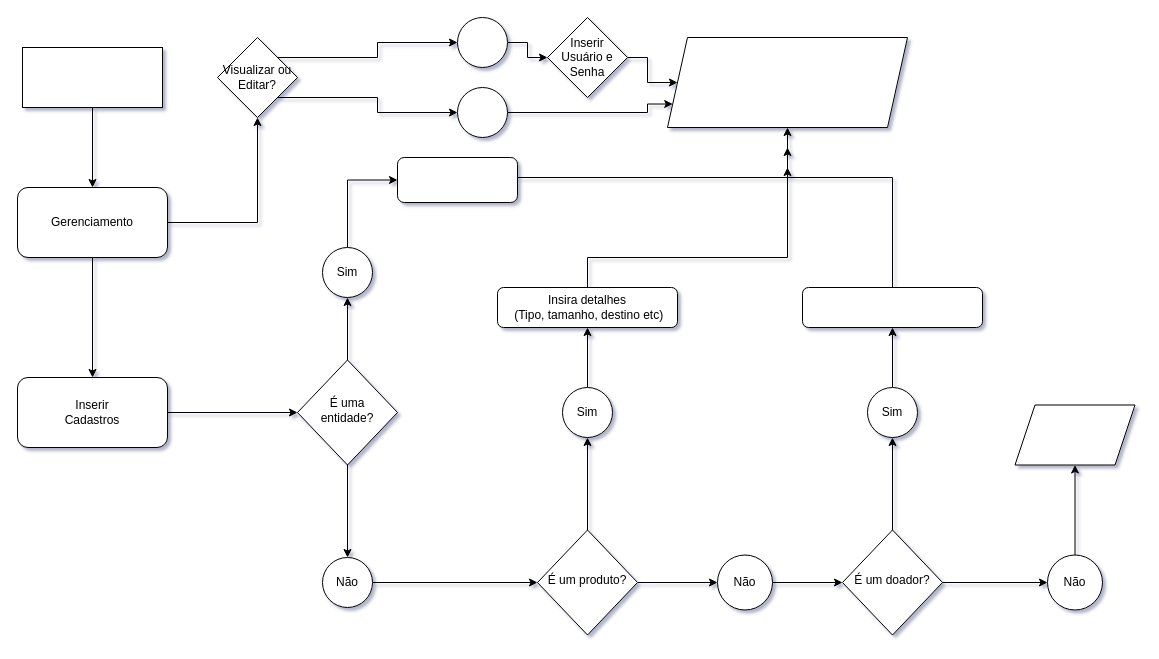
Some shapes in this 1159 by 659 pixel diagram are drawn without their labels. The shapes that lost their labels are listed below. From the top down, each one's box as (x1, y1, x2, y2) in pixels, then its label:
(456, 16, 508, 68): Editar
(22, 46, 162, 108): PRINCIPAL
(666, 36, 908, 128): Banco de Dados
(456, 86, 508, 138): Visualizar
(396, 156, 518, 202): Insira Dados (Nome, CNPJ etc.)
(802, 286, 982, 328): Insira dados (ID, Idade, tipo de doação)
(1014, 404, 1135, 465): Retorne
